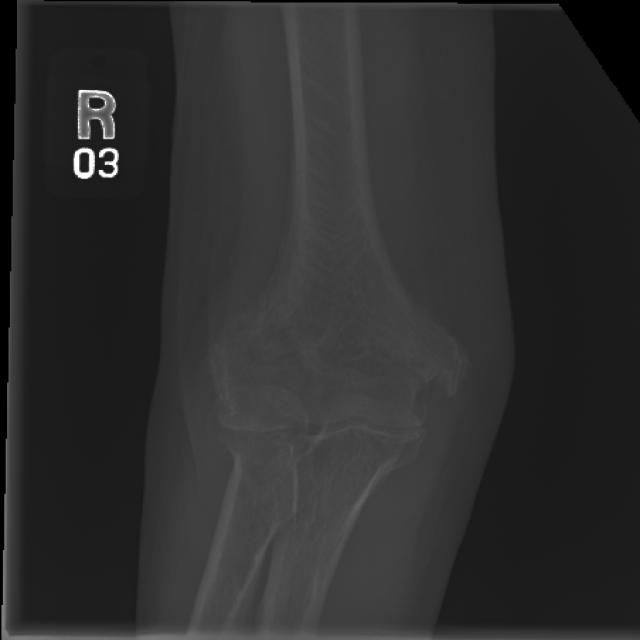elbow positive: (198, 442, 326, 558), (383, 323, 483, 434)
